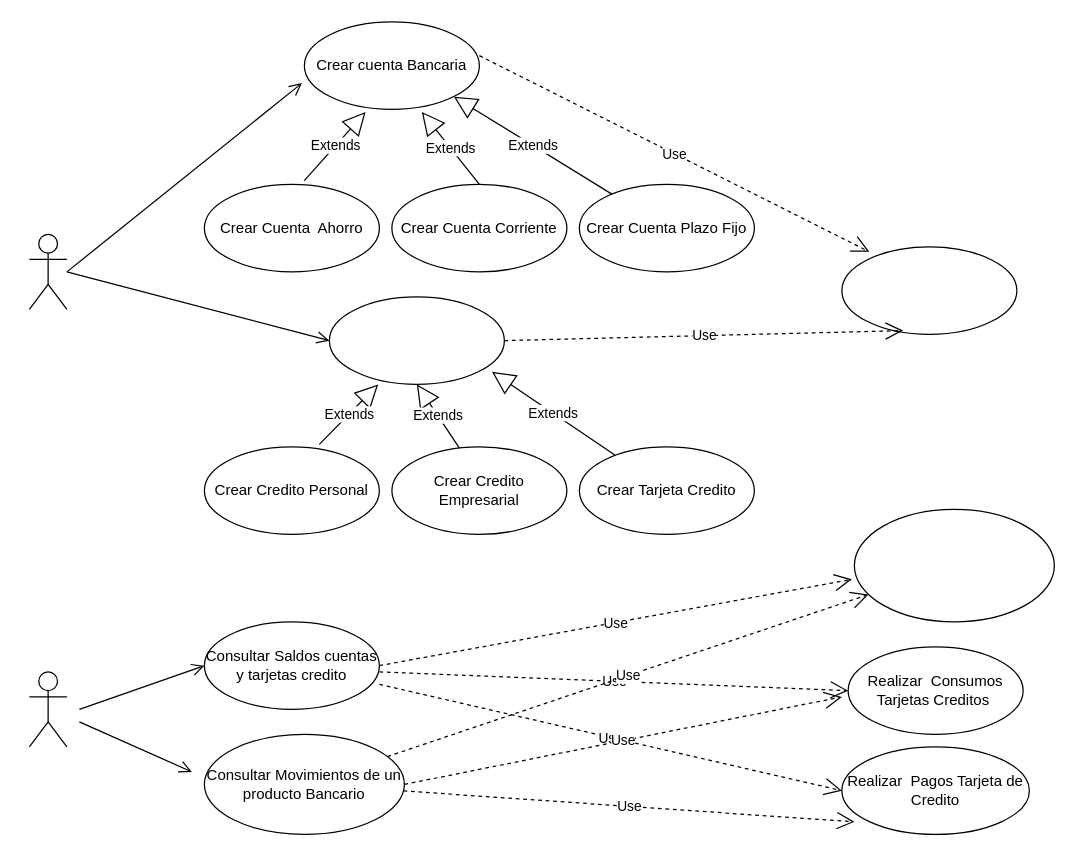
Image size: 1076x861. Some labels were removed from this diagram. The shapes that lost their labels are listed below. From the top down, each one's centre as x and y in pixels, then its label:
point (47, 271): Cliente
point (929, 290): Cliente - Validar Tipo Cliente
point (416, 340): Crear nuevo Producto Credito
point (953, 565): Realizar Abonos y Retiros Cuentas Bancarias
point (47, 709): Sistema
